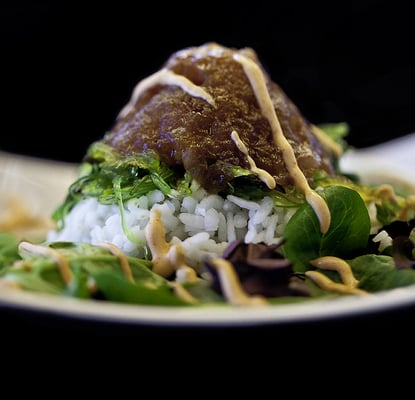sushi: (4, 48, 415, 335)
